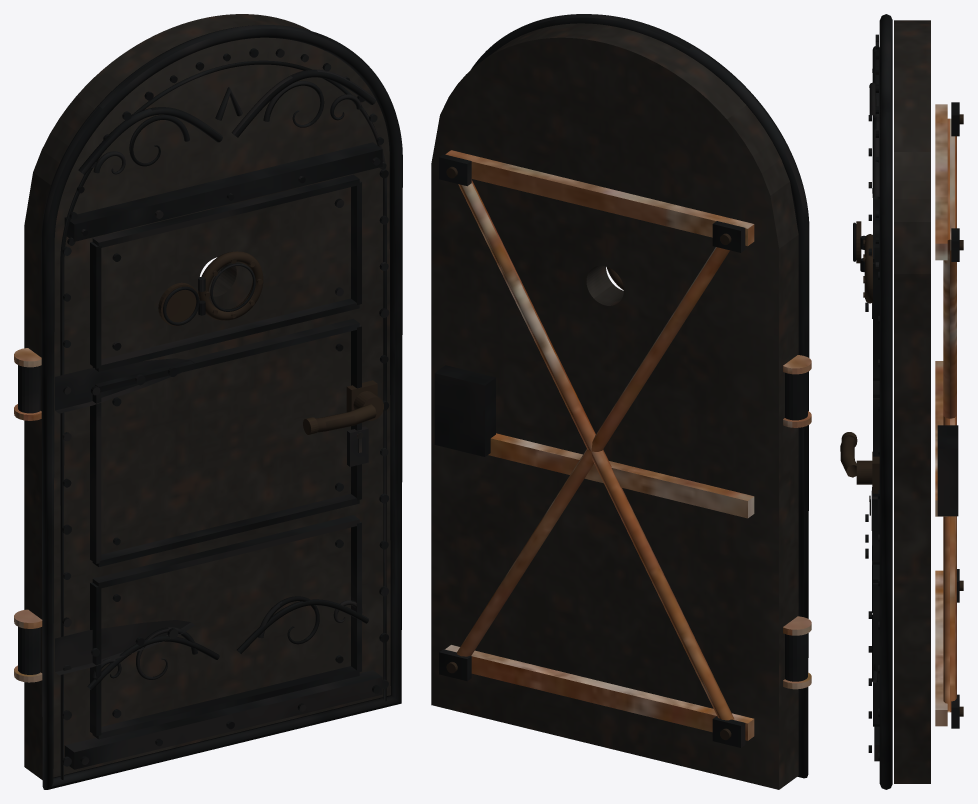
Rendered from door-herrero-v082-b.glb.
3 views of the same model, side by side, from view 1: azimuth 30°, elevation 25°; view 2: azimuth 150°, elevation 25°; view 3: azimuth 270°, elevation 25° (orthographic). The views are drawn at different scales.
Parts seen in each view (by area): view 1: Door_arched_iron_body; view 2: Door_arched_iron_body; view 3: Door_arched_iron_body.
Part boxes in pixels (box(x1,y1,x2,y2)): Door_arched_iron_body: box(14, 14, 402, 789); Door_arched_iron_body: box(431, 14, 811, 789); Door_arched_iron_body: box(840, 14, 963, 789).
Bounding box in the file's own units: 1.25 × 2.3 × 0.3809.
Materials: 5 (5 with a texture image).
